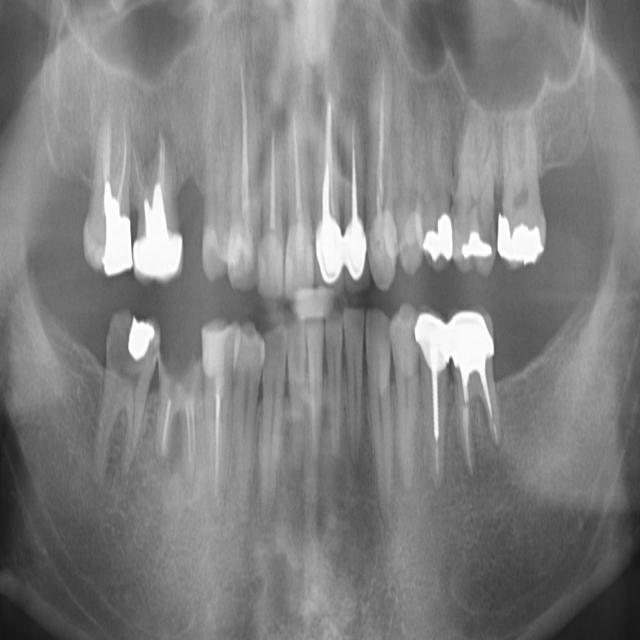dolgu: (86, 204, 134, 272), (420, 217, 458, 265), (120, 319, 161, 363), (459, 222, 495, 268)
kanal-tedavisi: (83, 101, 136, 222), (129, 102, 181, 224), (456, 369, 507, 475), (232, 60, 261, 231), (155, 398, 204, 487), (285, 110, 315, 231), (369, 89, 394, 224), (259, 104, 285, 233), (319, 94, 342, 230), (426, 360, 448, 491), (206, 382, 227, 507)
kaplama: (130, 224, 184, 280), (308, 214, 350, 286), (449, 313, 495, 370), (492, 218, 547, 260), (415, 316, 451, 370), (346, 216, 374, 271)
kirik: (146, 319, 212, 394)
